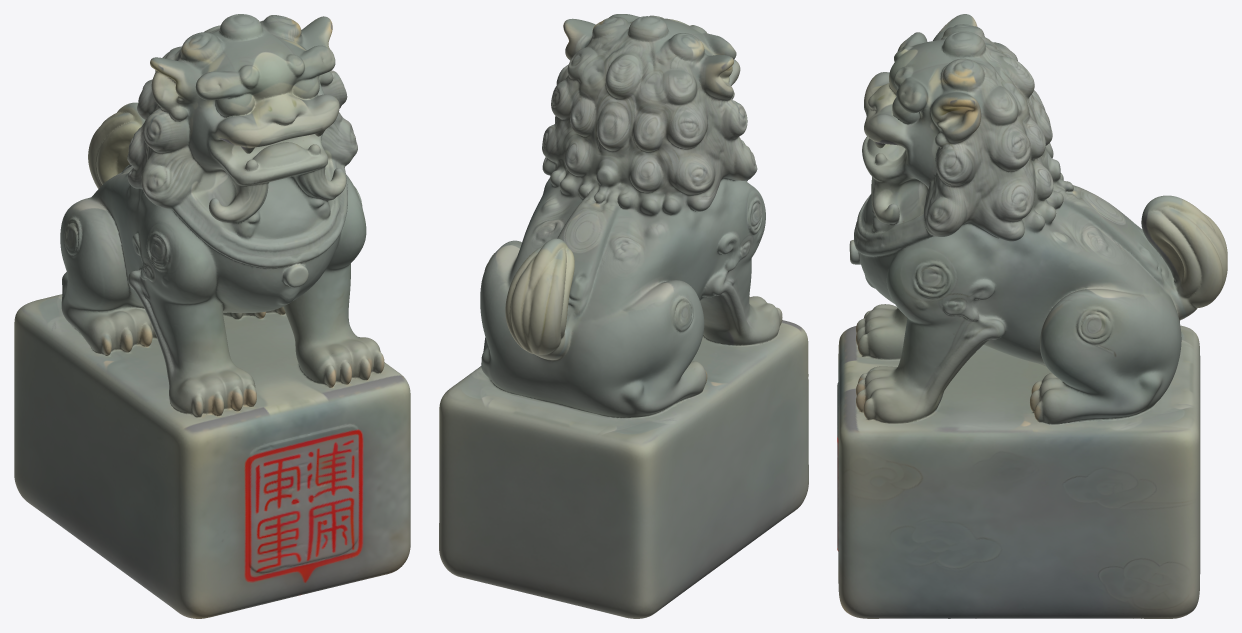
The model's file is seal_A_h25.glb.
3 renders of one model, left to right at view 1: azimuth 30°, elevation 25°; view 2: azimuth 150°, elevation 25°; view 3: azimuth 270°, elevation 25°, orthographic. The views are drawn at different scales.
Visible parts, largest first — view 1: tripo_node_1c934bc9-ea17-4f1f-80dc-fb97f994e152; view 2: tripo_node_1c934bc9-ea17-4f1f-80dc-fb97f994e152; view 3: tripo_node_1c934bc9-ea17-4f1f-80dc-fb97f994e152.
Part boxes in pixels (<box>): tripo_node_1c934bc9-ea17-4f1f-80dc-fb97f994e152: <box>14,14,410,618</box>; tripo_node_1c934bc9-ea17-4f1f-80dc-fb97f994e152: <box>439,14,808,618</box>; tripo_node_1c934bc9-ea17-4f1f-80dc-fb97f994e152: <box>837,14,1227,618</box>.
Size of the model in its own units: 0.4466 by 1 by 0.6605.
1 material, 1 textured.
